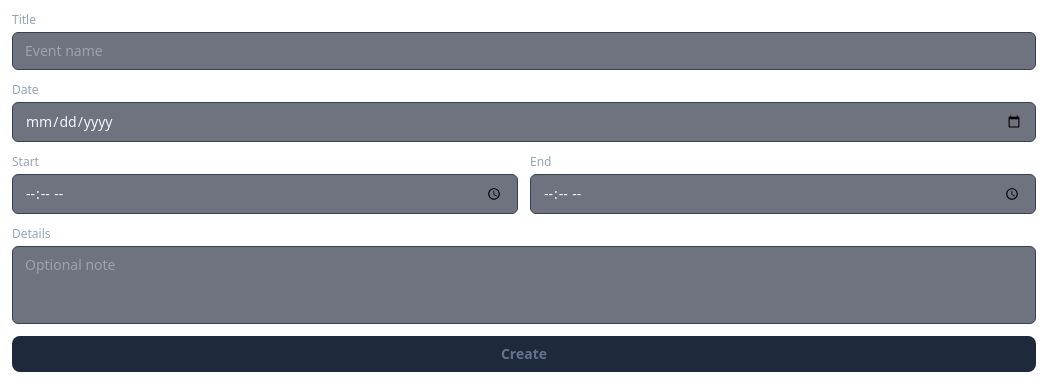
Test: CalendarForm › disables submit until title + date + start + end are filled
The image size is (1048, 389).
Check: the button with test id "calendar-submit" is disabled, box x1=12 y1=336 x2=1036 y2=372
Type "Sunum" into the field with test id "field-title" at (524, 51), box x1=12 y1=32 x2=1036 y2=70
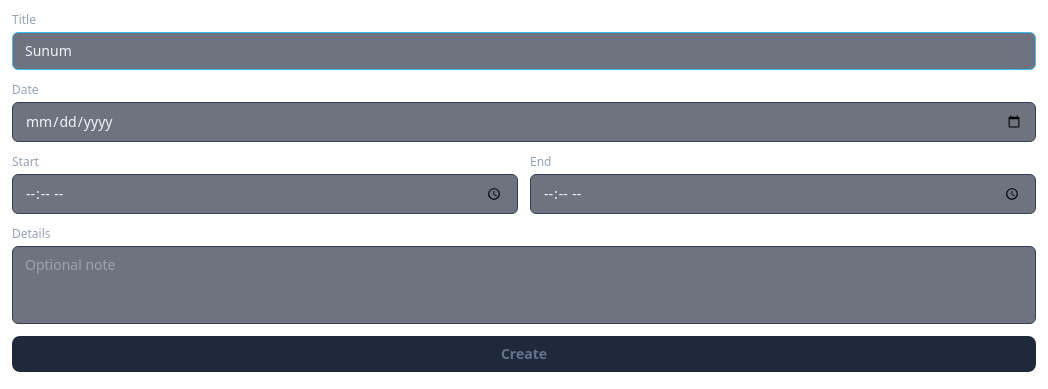
Type "2026-05-01" into the date field with test id "field-date" at (524, 122), box x1=12 y1=102 x2=1036 y2=142
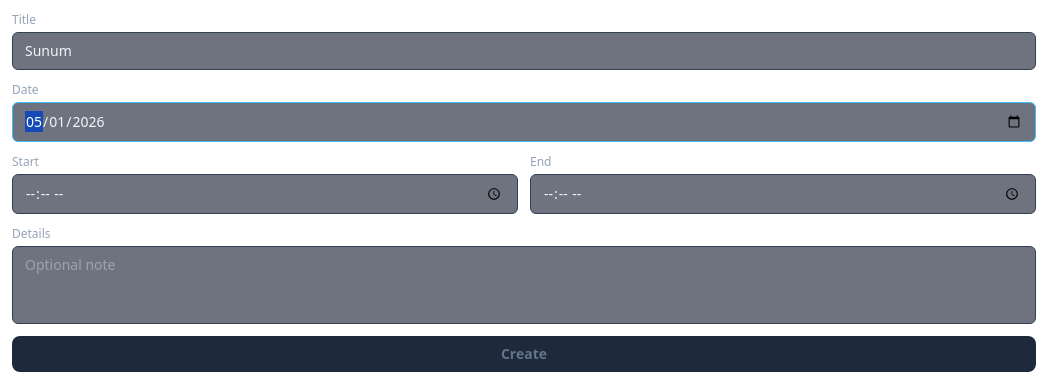
Type "10:00" into the time field with test id "field-start" at (265, 194), box x1=12 y1=174 x2=518 y2=214
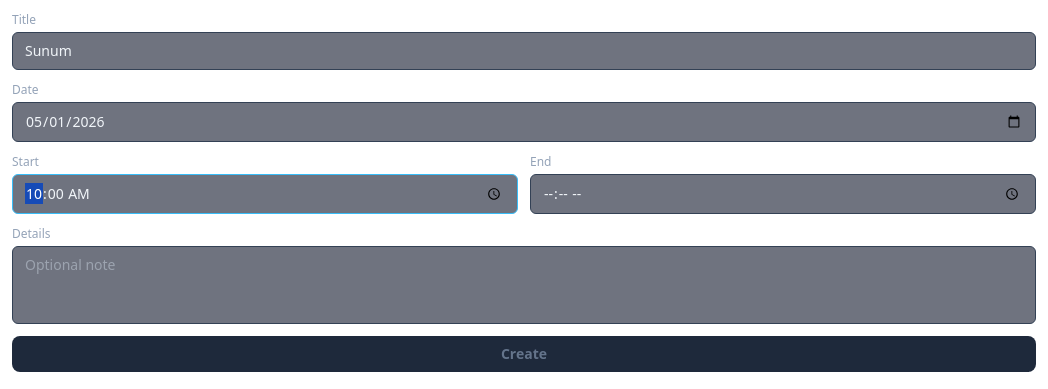
Type "11:00" into the time field with test id "field-end" at (783, 194), box x1=530 y1=174 x2=1036 y2=214
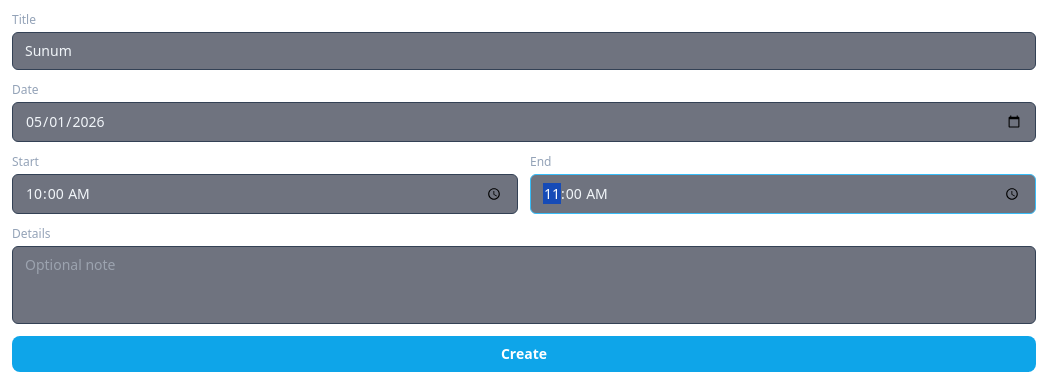
Check: the button with test id "calendar-submit" is enabled, box x1=12 y1=336 x2=1036 y2=372
